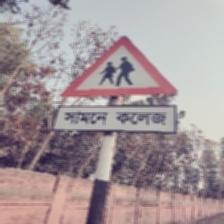College-in-front: (50, 39, 174, 131)
